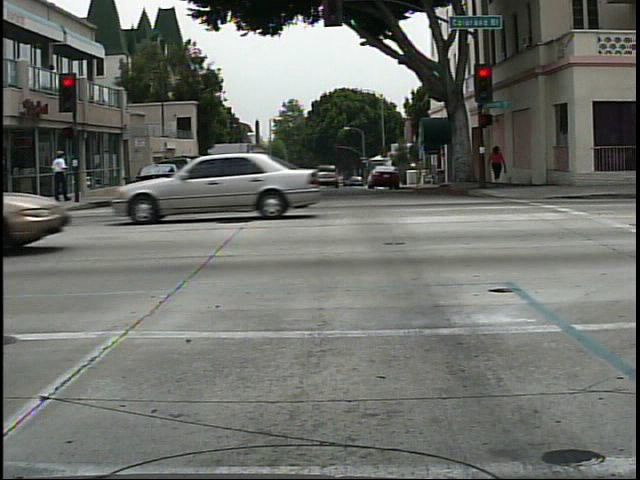person: (486, 138, 514, 195), (50, 144, 73, 203)
